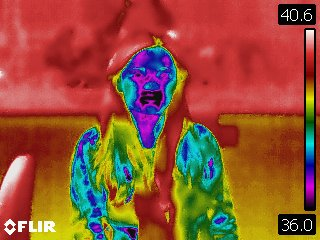human: (68, 33, 241, 240)
